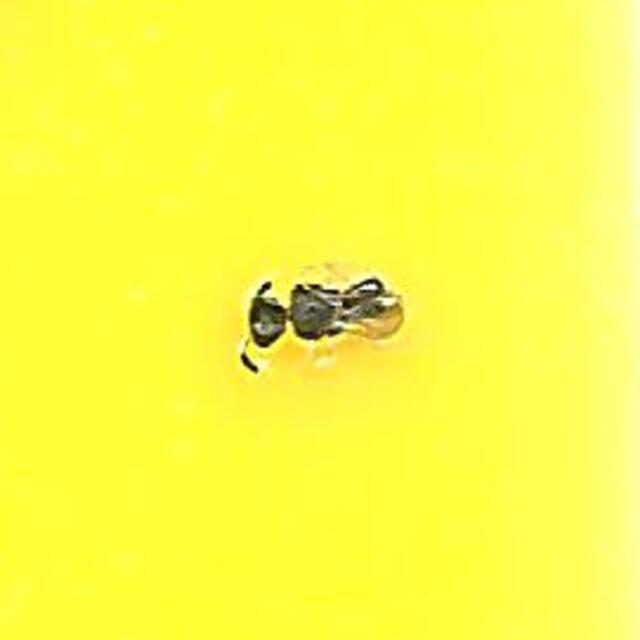Hymenoptera: (236, 263, 404, 377)
